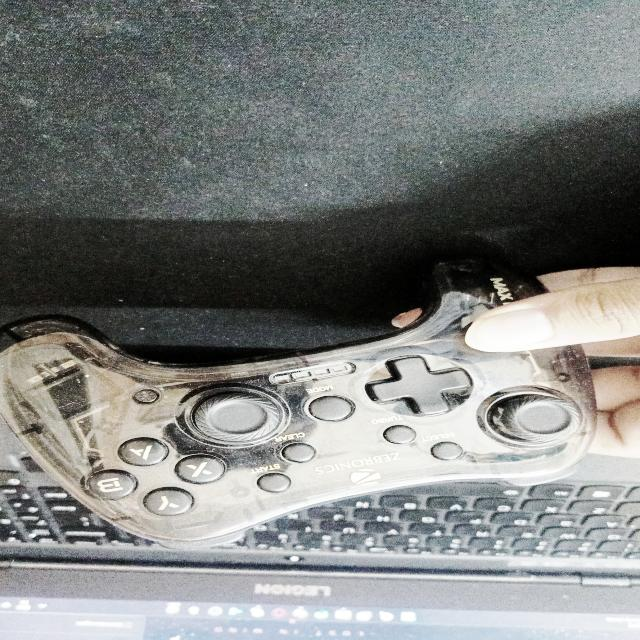gamepad: (0, 256, 600, 550)
